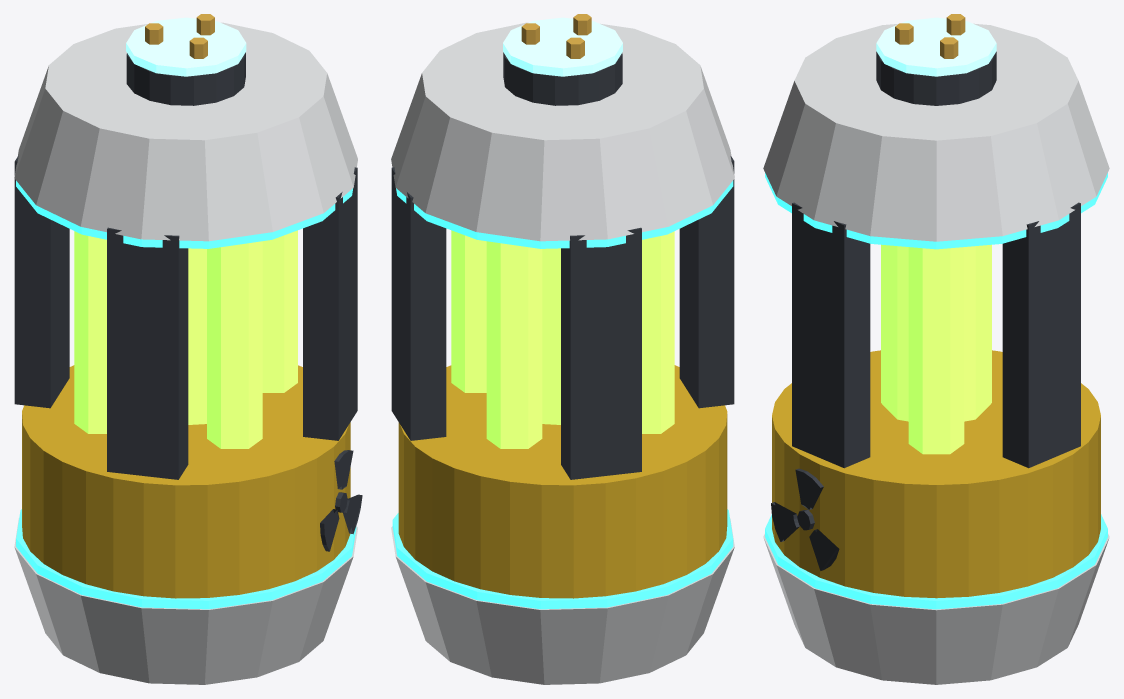
The model's file is uranium_space.glb.
The picture shows the model from 3 angles, left to right: view 1: azimuth 30°, elevation 25°; view 2: azimuth 150°, elevation 25°; view 3: azimuth 270°, elevation 25°; orthographic projection.
Parts seen in each view (by area): view 1: uranium_space; view 2: uranium_space; view 3: uranium_space.
Part boxes in pixels (left/top/right/bottom): uranium_space: left=14, top=14, right=362, bottom=684; uranium_space: left=391, top=14, right=734, bottom=684; uranium_space: left=763, top=14, right=1109, bottom=684.
Bounding box in the file's own units: 0.15 × 0.285 × 0.15.
